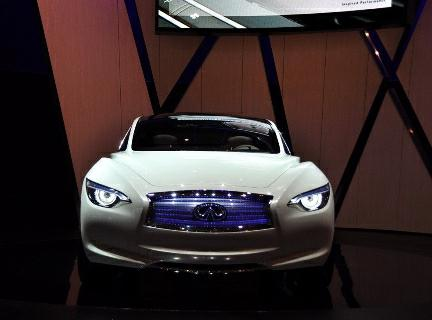英菲尼迪-Etherea: (71, 108, 341, 289)
